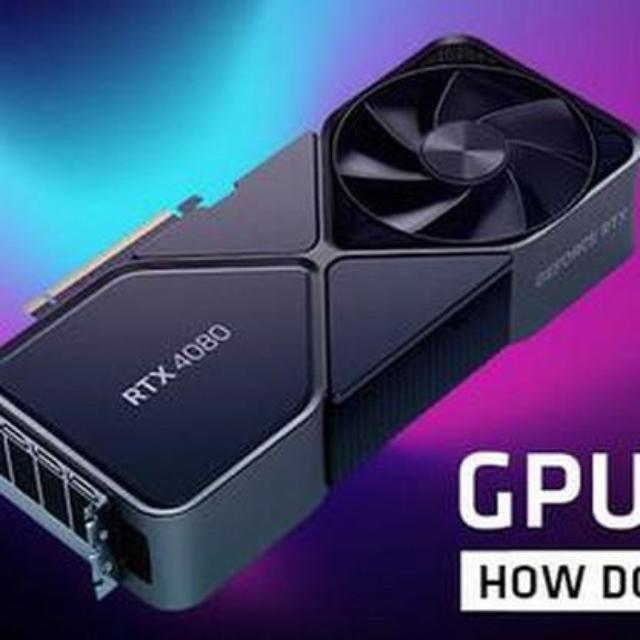GPU: (0, 24, 638, 610)
